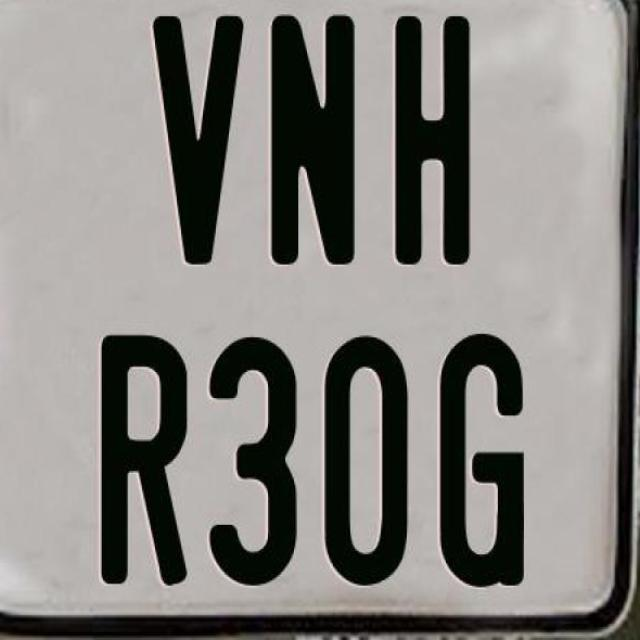license-plate: (5, 0, 632, 640)
